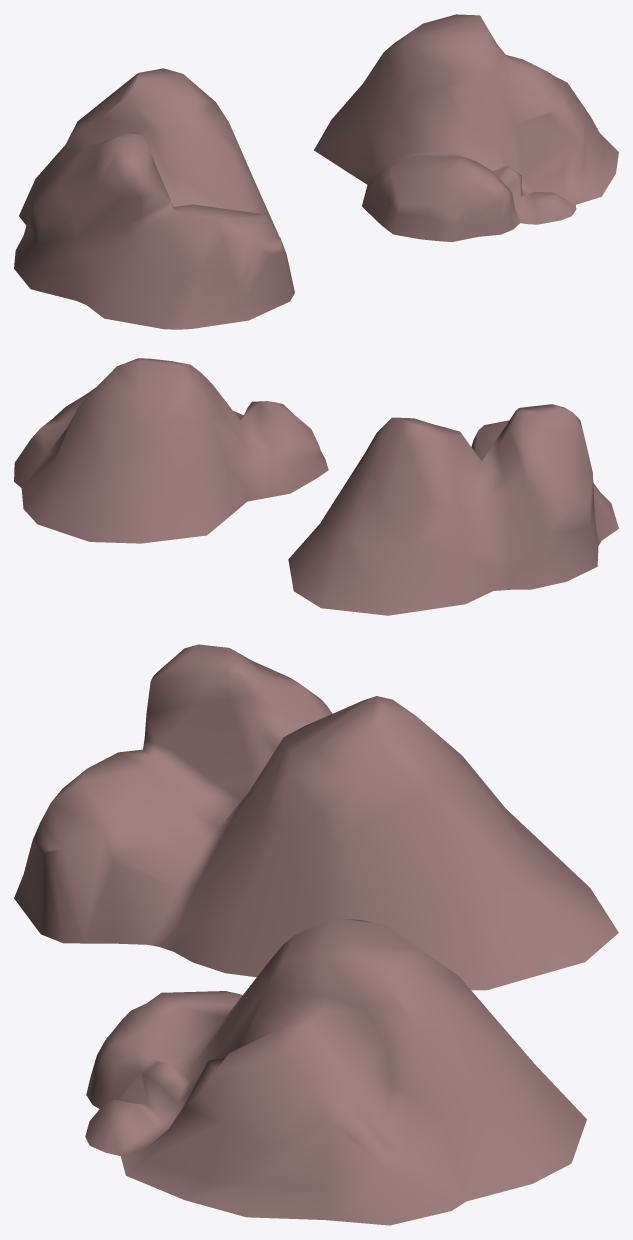
Rendered from cmc_medrocks_low.fbx.
3 views of the same model, one above another, from view 1: azimuth 30°, elevation 25°; view 2: azimuth 150°, elevation 25°; view 3: azimuth 270°, elevation 25° (orthographic). The views are drawn at different scales.
Parts seen in each view (by area): view 1: medium_rock_01_geo, medium_rock_02_geo; view 2: medium_rock_01_geo, medium_rock_02_geo; view 3: medium_rock_01_geo, medium_rock_02_geo.
Part boxes in pixels (x1,y1,x2,y2): medium_rock_01_geo: [14, 68, 294, 329]; medium_rock_02_geo: [314, 14, 618, 241]; medium_rock_01_geo: [288, 404, 618, 615]; medium_rock_02_geo: [14, 358, 328, 543]; medium_rock_01_geo: [14, 644, 618, 990]; medium_rock_02_geo: [85, 918, 586, 1225].
Bounding box in the file's own units: 467 × 112 × 284.
